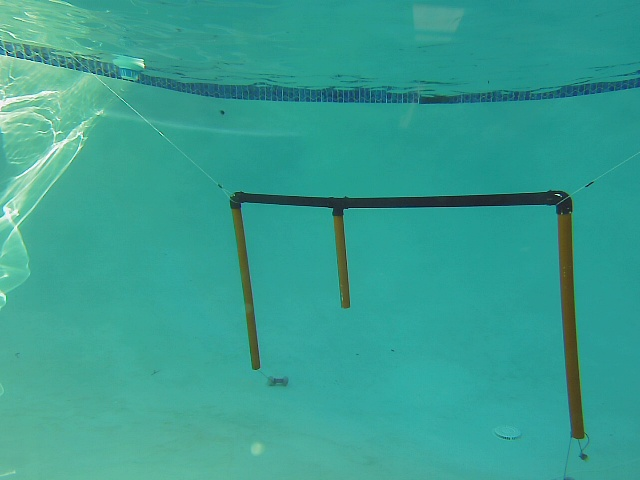Gate: (553, 205, 588, 445), (228, 200, 263, 370), (331, 208, 353, 306)
